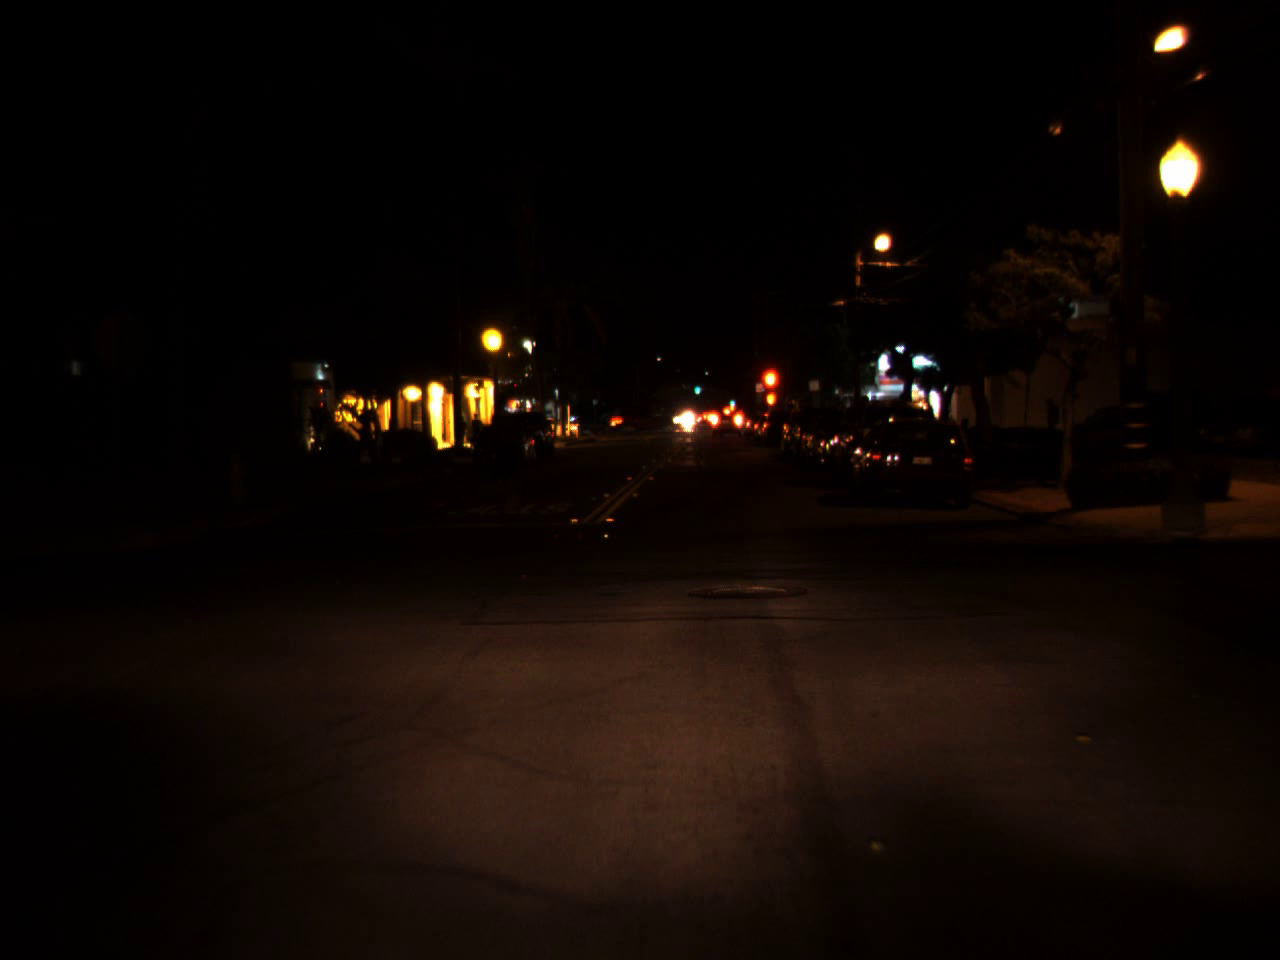go: (692, 380, 701, 395), (728, 394, 735, 406)
stop: (758, 365, 782, 413)
